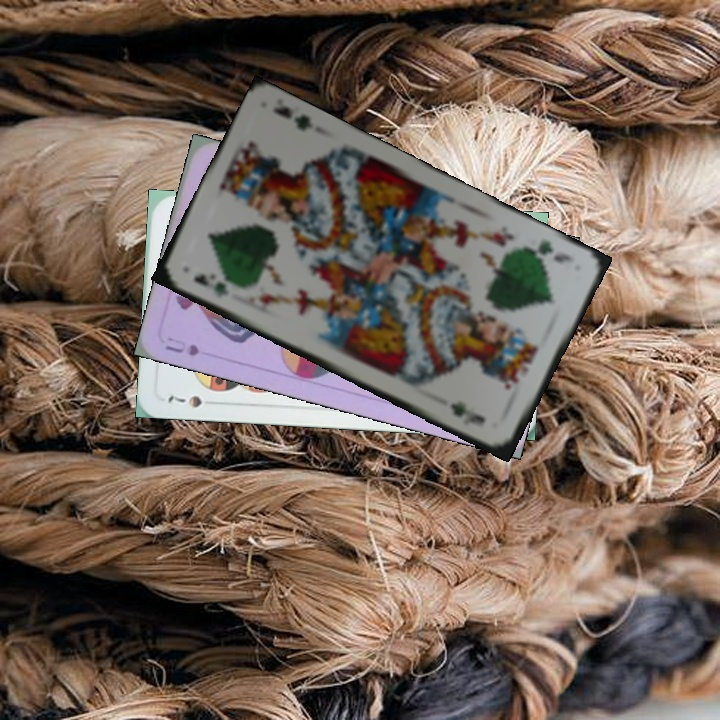GK: (521, 236, 577, 266), (190, 269, 231, 301)
S7: (163, 390, 204, 410)
SU: (161, 332, 202, 359)
